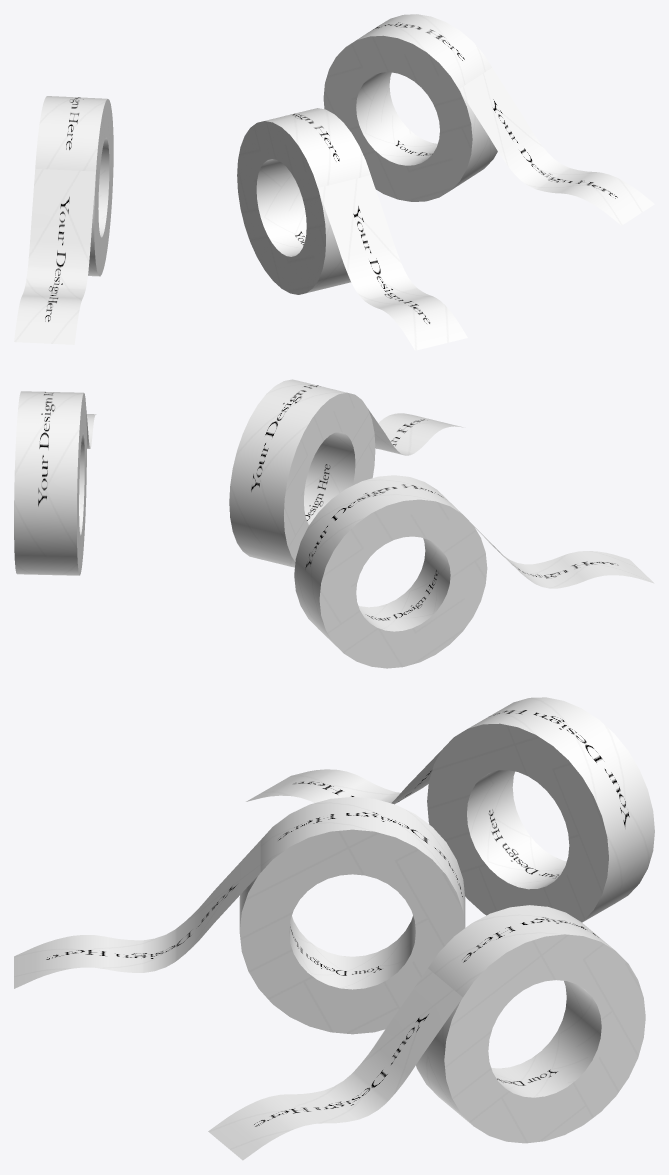
Rendered from Box_Tape A-4.glb.
3 renders of one model, top to bottom at view 1: azimuth 30°, elevation 25°; view 2: azimuth 150°, elevation 25°; view 3: azimuth 270°, elevation 25°, orthographic. The views are drawn at different scales.
Parts seen in each view (by area): view 1: Tape_roll.001, Tape_roll, Tape_roll.002; view 2: Tape_roll.002, Tape_roll, Tape_roll.001; view 3: Tape_roll.001, Tape_roll, Tape_roll.002.
Boxes of the visible parts, x1=… form: Tape_roll.001: x1=323, y1=14, x2=654, y2=225; Tape_roll: x1=237, y1=108, x2=467, y2=350; Tape_roll.002: x1=14, y1=96, x2=113, y2=344; Tape_roll.002: x1=294, y1=475, x2=654, y2=668; Tape_roll: x1=229, y1=379, x2=463, y2=567; Tape_roll.001: x1=14, y1=391, x2=96, y2=575; Tape_roll.001: x1=208, y1=905, x2=645, y2=1160; Tape_roll: x1=14, y1=797, x2=465, y2=1034; Tape_roll.002: x1=246, y1=697, x2=654, y2=922.
Size of the model in its own units: 0.238 by 0.059 by 0.1675.
1 material, 1 textured.
